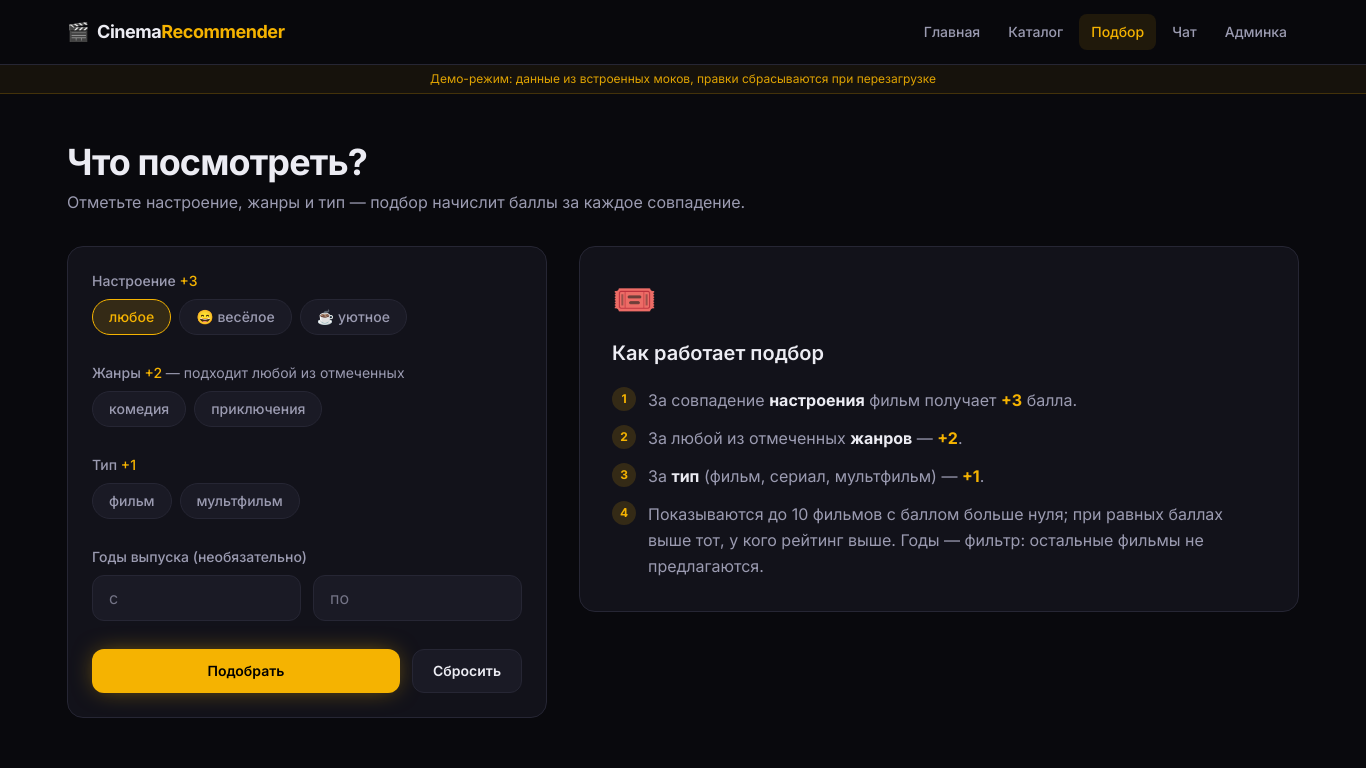
Страница подбора › отправка записывает условия в адрес и показывает баллы с совпадениями
Click the button "😄 весёлое": x=236, y=317 left=179, top=299, right=292, bottom=335
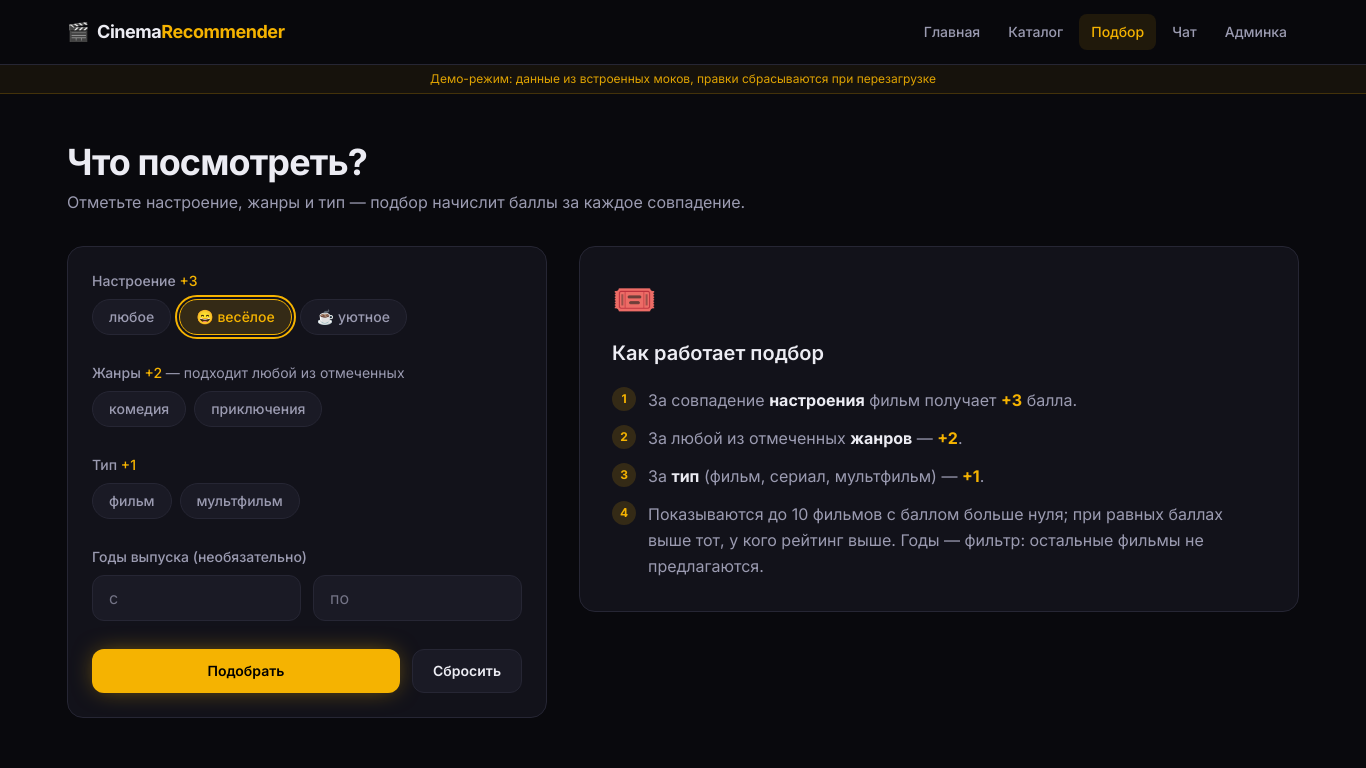
Click the button "комедия": x=139, y=409 left=92, top=391, right=186, bottom=427
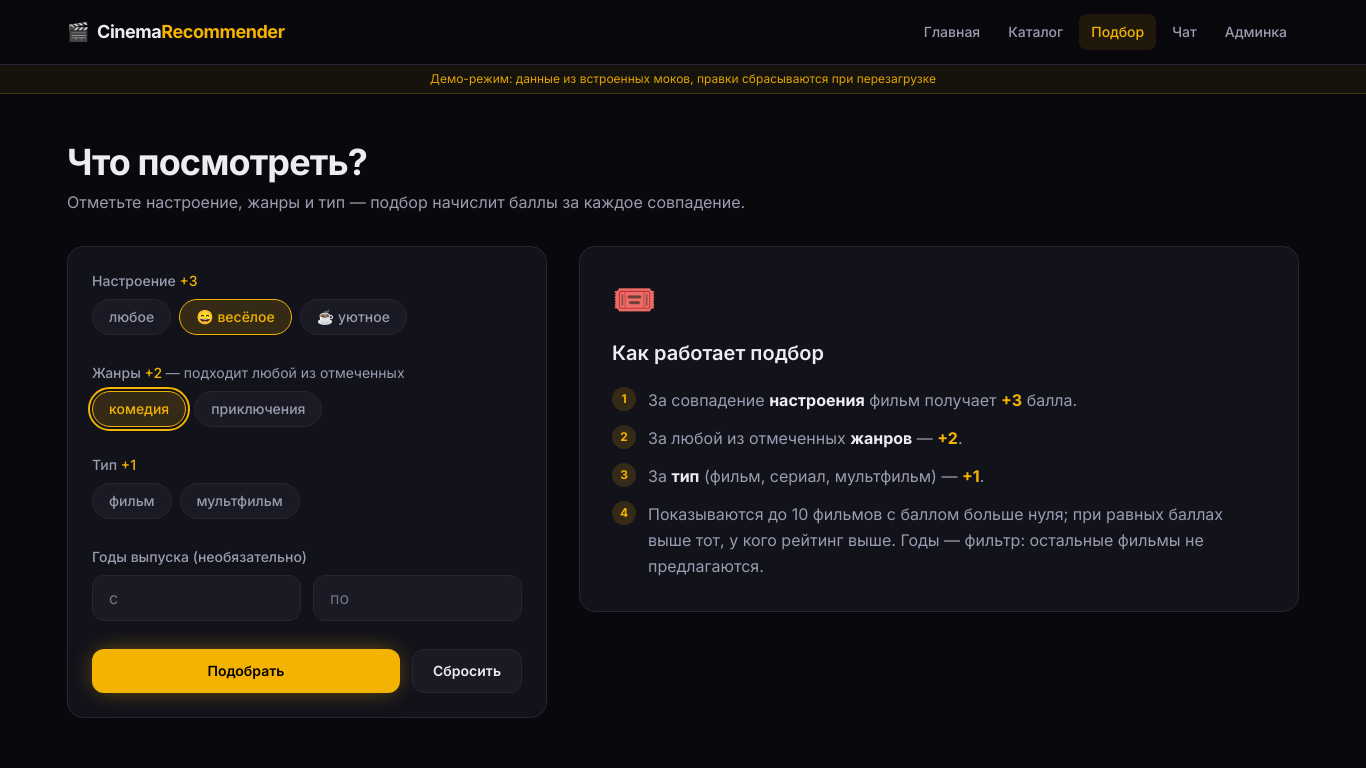
Click the button "мультфильм": x=240, y=501 left=180, top=483, right=300, bottom=519
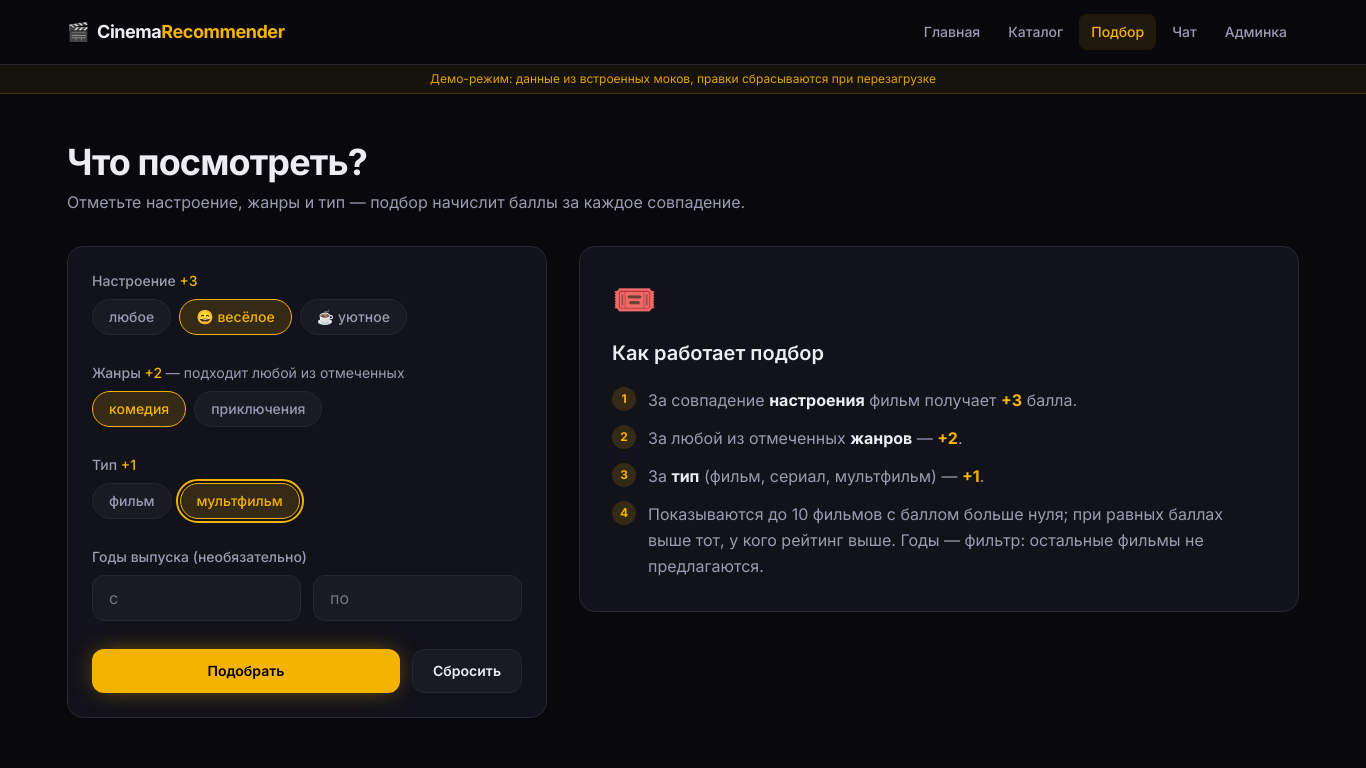
Click the button "Подобрать": x=246, y=671 left=92, top=649, right=400, bottom=693
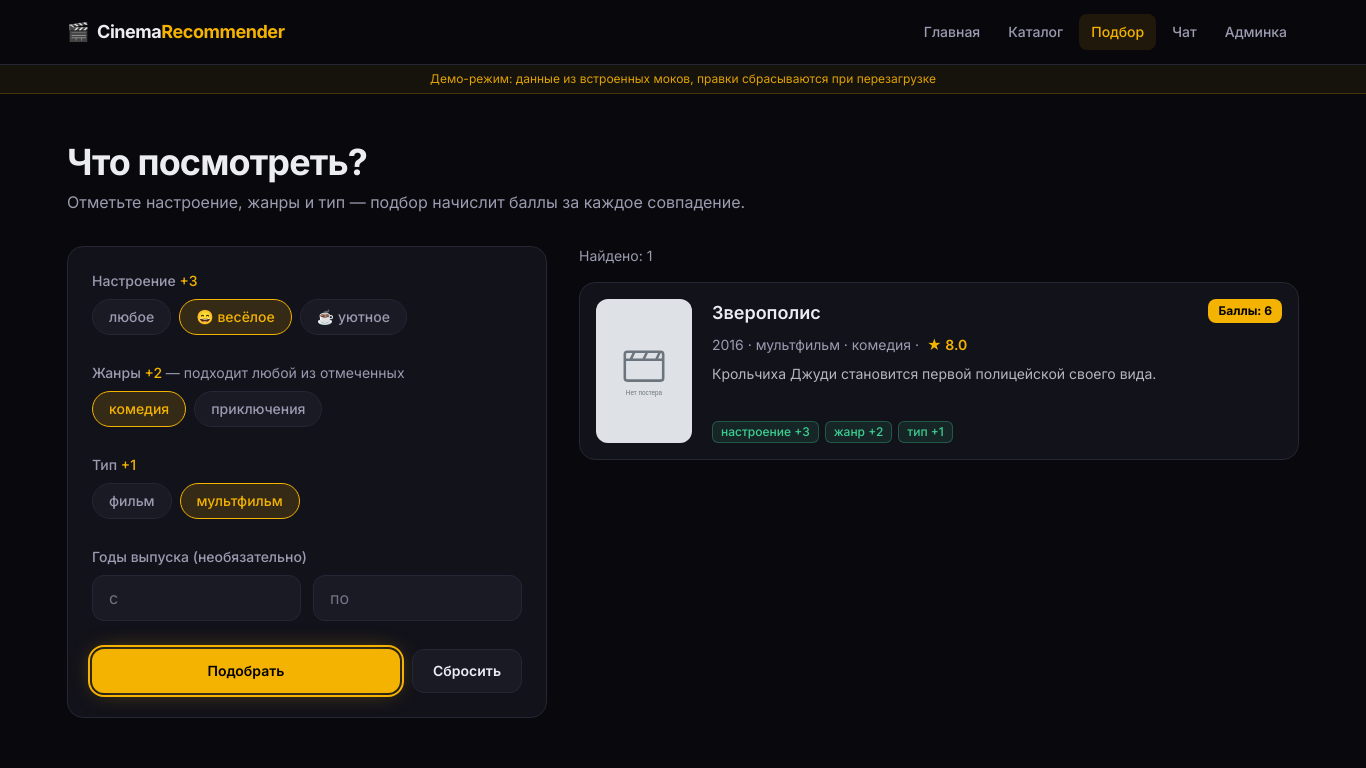
expect the text "Баллы: 6" is shown: met, box left=1208, top=299, right=1282, bottom=323
expect the text "настроение +3" is shown: met, box left=712, top=421, right=819, bottom=443
expect the text "жанр +2" is shown: met, box left=825, top=421, right=892, bottom=443
